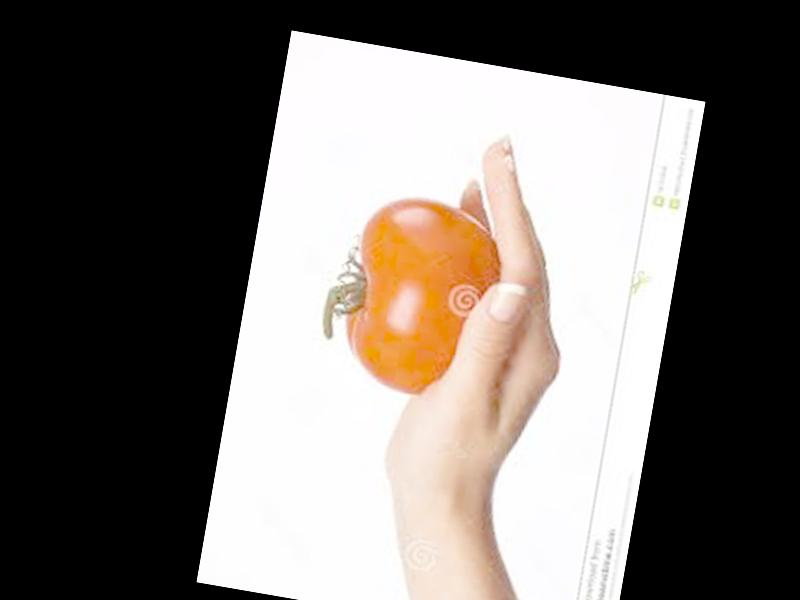Tomato: (335, 189, 509, 405)
